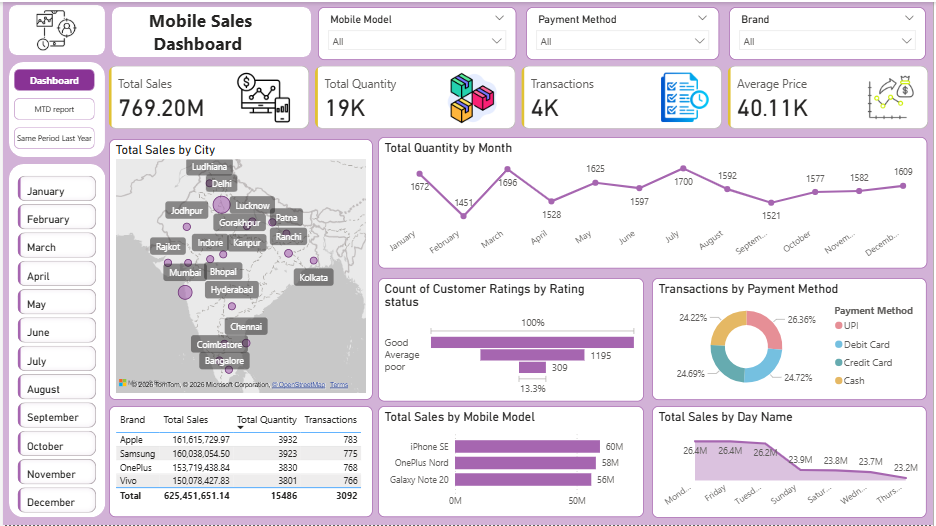

What the dashboard file says about the page in this screenshot:
{"tool":"powerbi","page":{"name":"Dashboard","canvas":[1280,720],"ordinal":0},"visuals":[{"type":"shape","box":[8.3,4.1,132.1,68.8],"z":0},{"type":"shape","box":[8.3,82.6,132.1,130.8],"z":1000},{"type":"shape","box":[8.5,222.7,132.5,486.3],"z":2000},{"type":"advancedSlicerVisual","fields":{"Values":["Date.Date.Variation.Date Hierarchy.Month"]},"box":[15.5,234,118.4,475.1],"z":3000},{"type":"image","box":[41.3,5.5,64.7,67.4],"z":4000},{"type":"cardVisual","fields":{"Data":["_measures.Total Sales","_measures.Total Quantity","_measures.Total Transactions","_measures.Average Price"]},"box":[140.4,82.6,1139.6,97.7],"z":5000},{"type":"image","box":[293.2,88.1,130.8,86.7],"z":6000},{"type":"image","box":[580.8,92.2,129.4,79.8],"z":7000},{"type":"image","box":[846.5,92.2,183.1,78.5],"z":8000},{"type":"image","box":[1164.4,95,115.6,72.9],"z":9000},{"type":"slicer","fields":{"Values":["sale_data.Mobile Model"]},"box":[433.5,6.9,272.5,72.9],"z":10000},{"type":"slicer","fields":{"Values":["sale_data.Payment Method"]},"box":[719.8,6.9,265.6,72.9],"z":11000},{"type":"slicer","fields":{"Values":["sale_data.Brand"]},"box":[999.2,6.9,271.1,72.9],"z":12000},{"type":"shape","box":[150,6.9,273.9,68.8],"z":13000},{"type":"textbox","box":[195.4,2.8,253.2,79.8],"z":14000},{"type":"map","fields":{"Category":["sale_data.City"],"Size":["_measures.Total Sales"]},"box":[146.1,188.1,362.8,359.5],"z":15000},{"type":"lineChart","fields":{"Category":["Date.Date.Variation.Date Hierarchy.Year","Date.Date.Variation.Date Hierarchy.Quarter","Date.Date.Variation.Date Hierarchy.Month","Date.Date.Variation.Date Hierarchy.Day"],"Y":["_measures.Total Quantity"]},"box":[515.7,186.5,755.9,181.4],"z":16000},{"type":"funnel","fields":{"Y":["CountNonNull(sale_data.Customer Ratings)"],"Category":["sale_data.Rating status"]},"box":[515.7,379.6,366.2,169.7],"z":17000},{"type":"donutChart","fields":{"Y":["_measures.Transactions"],"Category":["sale_data.Payment Method"]},"box":[893.6,379.6,378,168],"z":18000},{"type":"clusteredBarChart","fields":{"Y":["_measures.Total Sales"],"Category":["sale_data.Mobile Model"]},"box":[515.7,556,366.2,152.9],"z":19000},{"type":"areaChart","fields":{"Category":["sale_data.Day Name"],"Y":["_measures.Total Sales"]},"box":[893.9,555.6,377.7,153.5],"z":20000},{"type":"tableEx","fields":{"Values":["sale_data.Brand","_measures.Total Sales","_measures.Total Quantity","_measures.Transactions"]},"box":[146.1,556,362.8,152.9],"z":21000},{"type":"pageNavigator","box":[15.1,92.2,111.5,110.1],"z":22000}]}

Visuals, with their boxes in screenshot pixels (x1, y1, x2, y2), scaled from the page's 1280x720 canvas onto the 936x526 screenshot:
shape: rect(6, 3, 103, 53)
shape: rect(6, 60, 103, 156)
shape: rect(6, 163, 103, 518)
advancedSlicerVisual - Date.Date.Variation.Date Hierarchy.Month: rect(11, 171, 98, 518)
image: rect(30, 4, 78, 53)
cardVisual - _measures.Total Sales x _measures.Total Quantity: rect(103, 60, 935, 132)
image: rect(214, 64, 310, 128)
image: rect(425, 67, 519, 126)
image: rect(619, 67, 753, 125)
image: rect(851, 69, 935, 123)
slicer - sale_data.Mobile Model: rect(317, 5, 516, 58)
slicer - sale_data.Payment Method: rect(526, 5, 721, 58)
slicer - sale_data.Brand: rect(731, 5, 929, 58)
shape: rect(110, 5, 310, 55)
textbox: rect(143, 2, 328, 60)
map - sale_data.City x _measures.Total Sales: rect(107, 137, 372, 400)
lineChart - Date.Date.Variation.Date Hierarchy.Year x Date.Date.Variation.Date Hierarchy.Quarter: rect(377, 136, 930, 269)
funnel - CountNonNull(sale_data.Customer Ratings) x sale_data.Rating status: rect(377, 277, 645, 401)
donutChart - _measures.Transactions x sale_data.Payment Method: rect(653, 277, 930, 400)
clusteredBarChart - _measures.Total Sales x sale_data.Mobile Model: rect(377, 406, 645, 518)
areaChart - sale_data.Day Name x _measures.Total Sales: rect(654, 406, 930, 518)
tableEx - sale_data.Brand x _measures.Total Sales: rect(107, 406, 372, 518)
pageNavigator: rect(11, 67, 93, 148)
